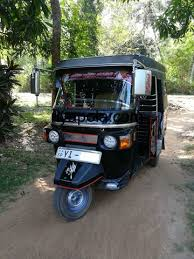tuk tuk: (51, 53, 169, 223)
